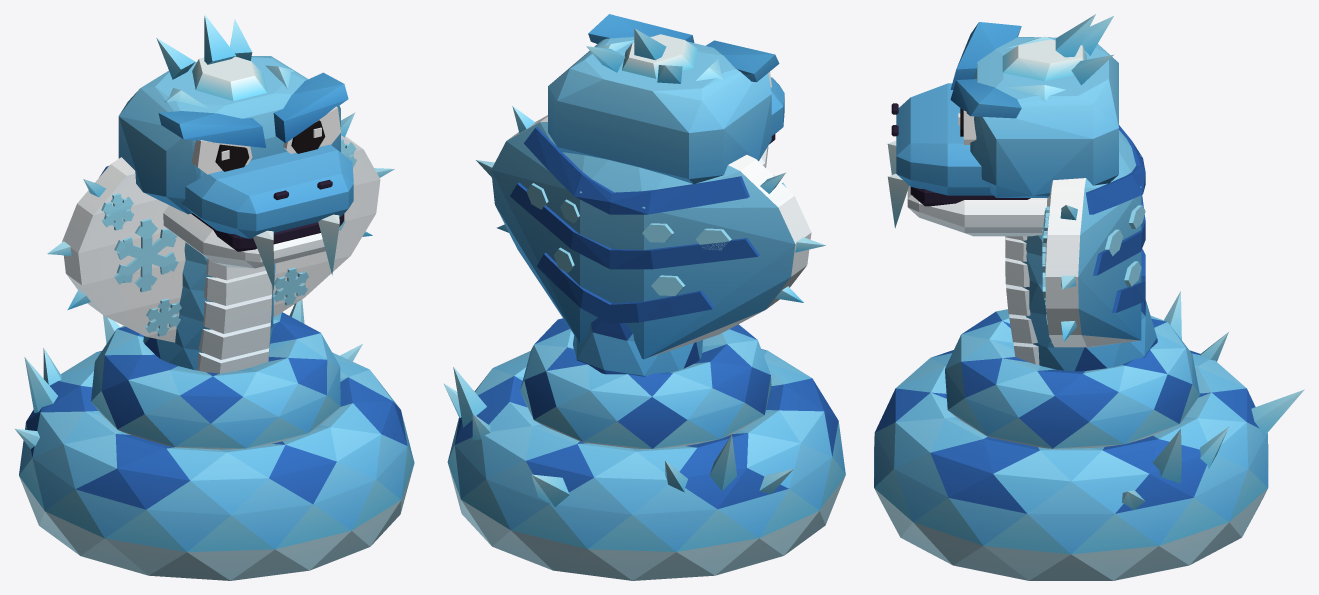
Rendered from FrostCobra.glb.
3 views of the same model, side by side, from view 1: azimuth 30°, elevation 25°; view 2: azimuth 150°, elevation 25°; view 3: azimuth 270°, elevation 25° (orthographic).
Parts seen in each view (by area): view 1: FrostCobra; view 2: FrostCobra; view 3: FrostCobra.
Part boxes in pixels (<box>): FrostCobra: <box>15,14,414,580</box>; FrostCobra: <box>443,14,845,580</box>; FrostCobra: <box>874,14,1304,580</box>.
Size of the model in its own units: 0.8773 by 1.15 by 0.9205.
Materials: 1 (1 with a texture image).
